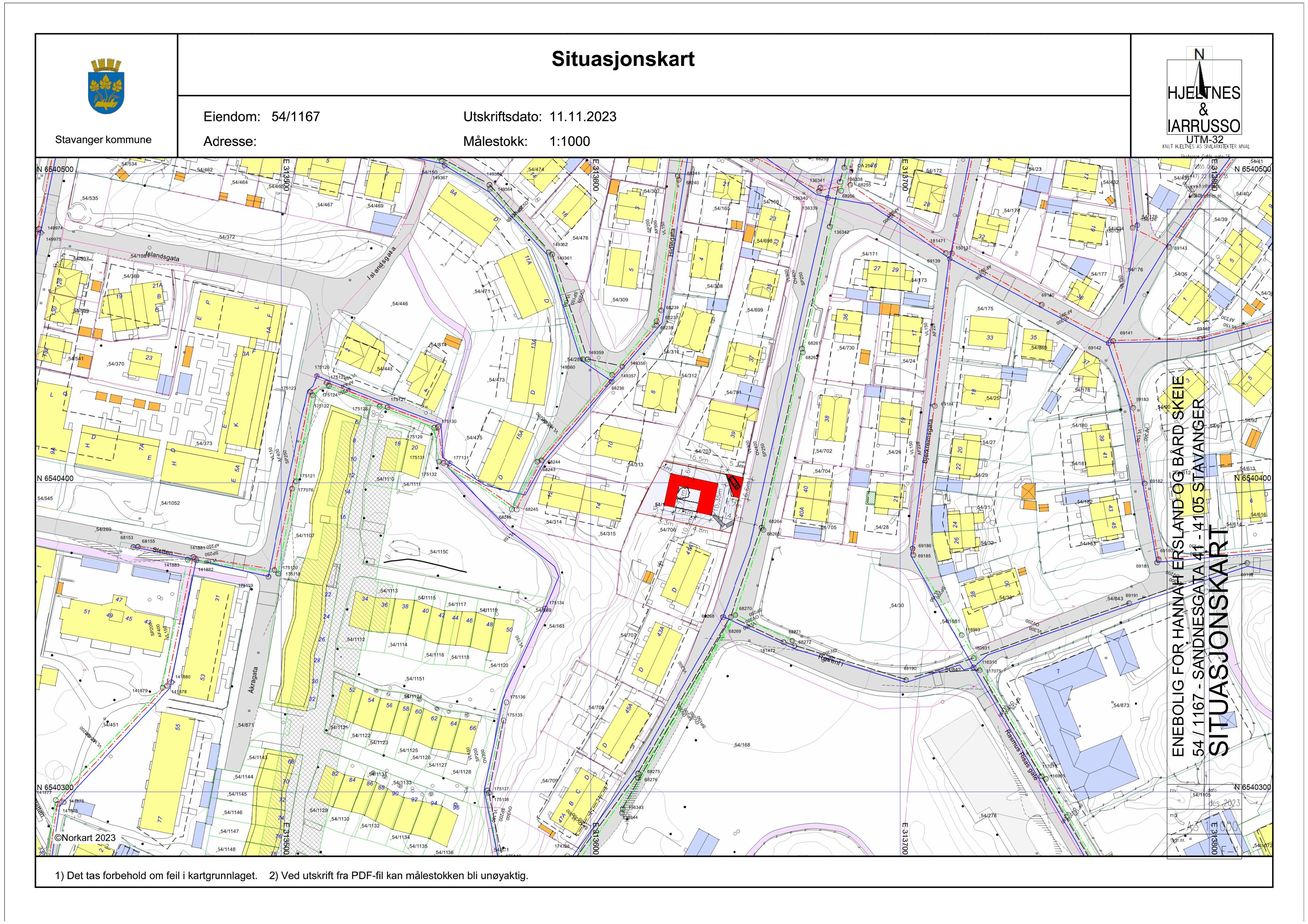situasjonskart: (37, 159, 1167, 854)
